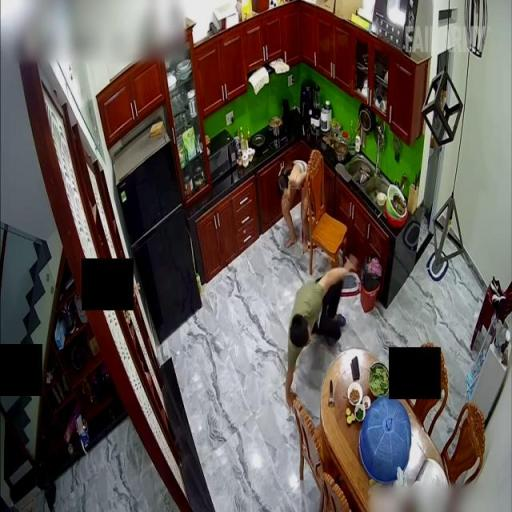Fall: (284, 256, 356, 413)
